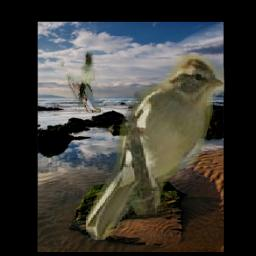Cuckoo: (57, 51, 101, 113)
Sparrow: (86, 54, 224, 240)
